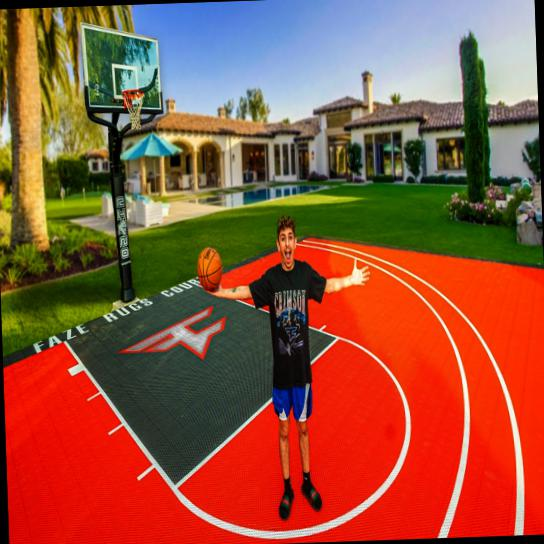basketball-hoop: (122, 88, 148, 132)
